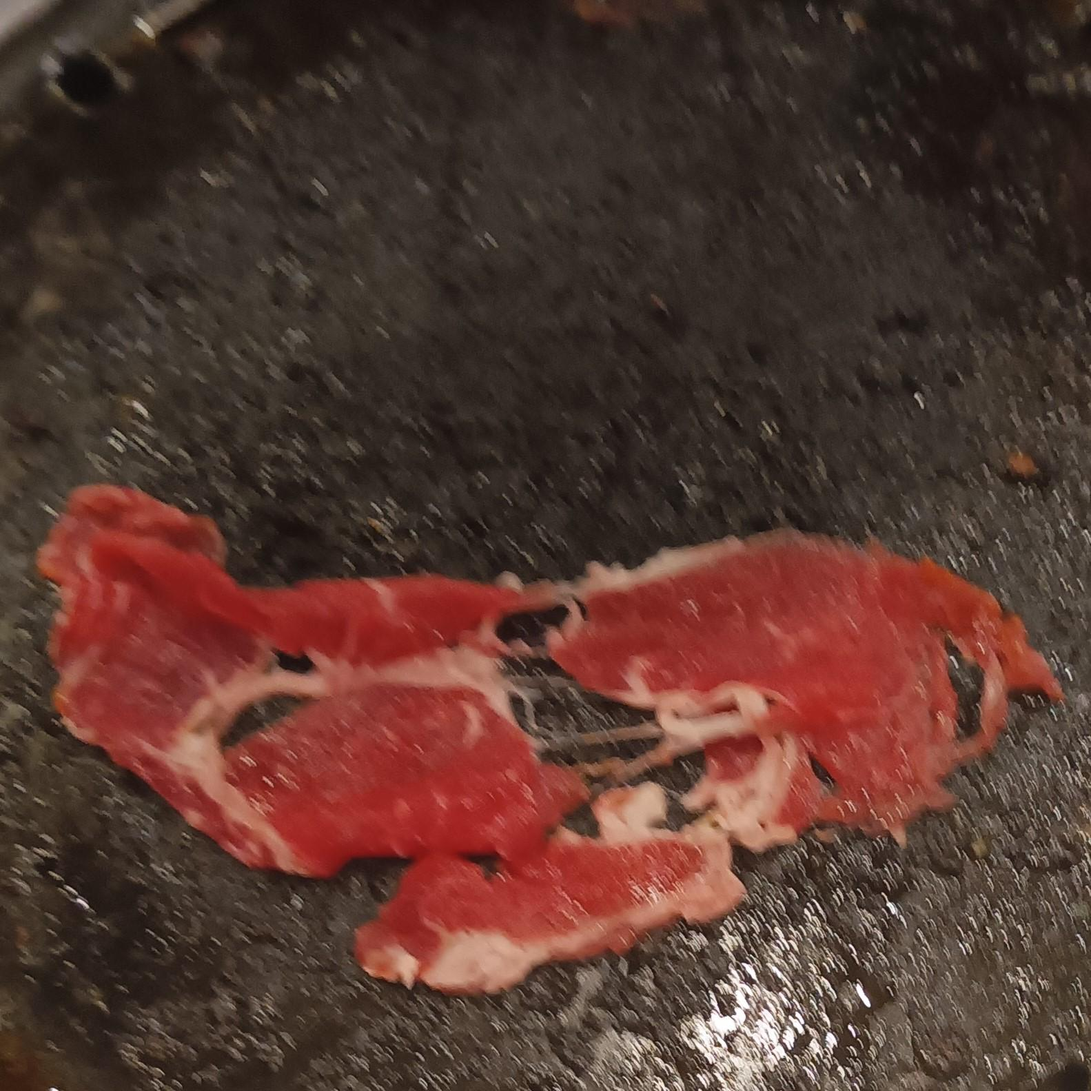Undercooked: (37, 485, 1061, 993)
